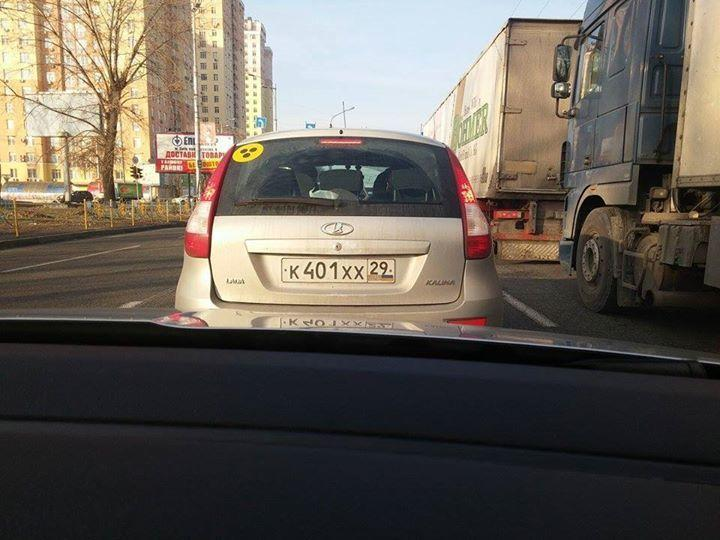license-plateSW: (282, 257, 397, 284)
